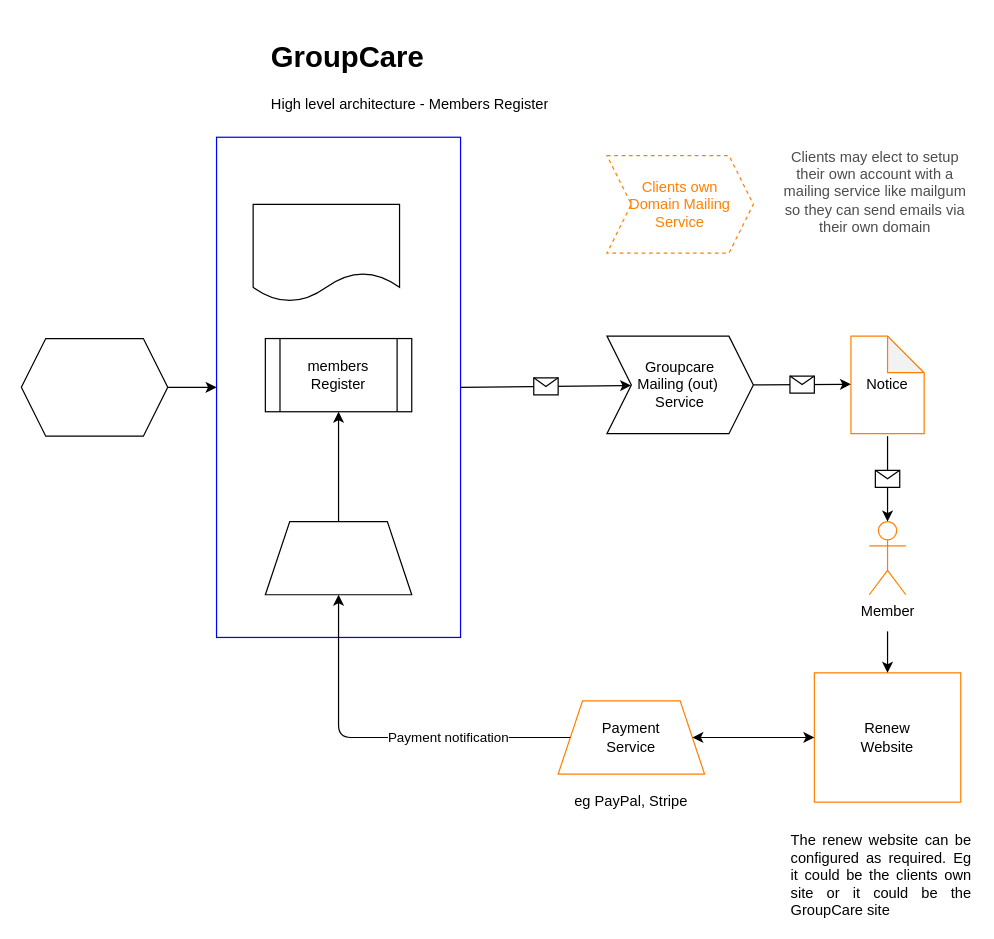
The diagram is 994 pixels wide and 939 high, and some of its shapes have lost their labels. Each missing label, with the centre of its shape:
"Manage Members Register" belongs at (94,386).
"Member Notice templates" belongs at (326,252).
"Payment Service Web Hook" belongs at (338,557).
